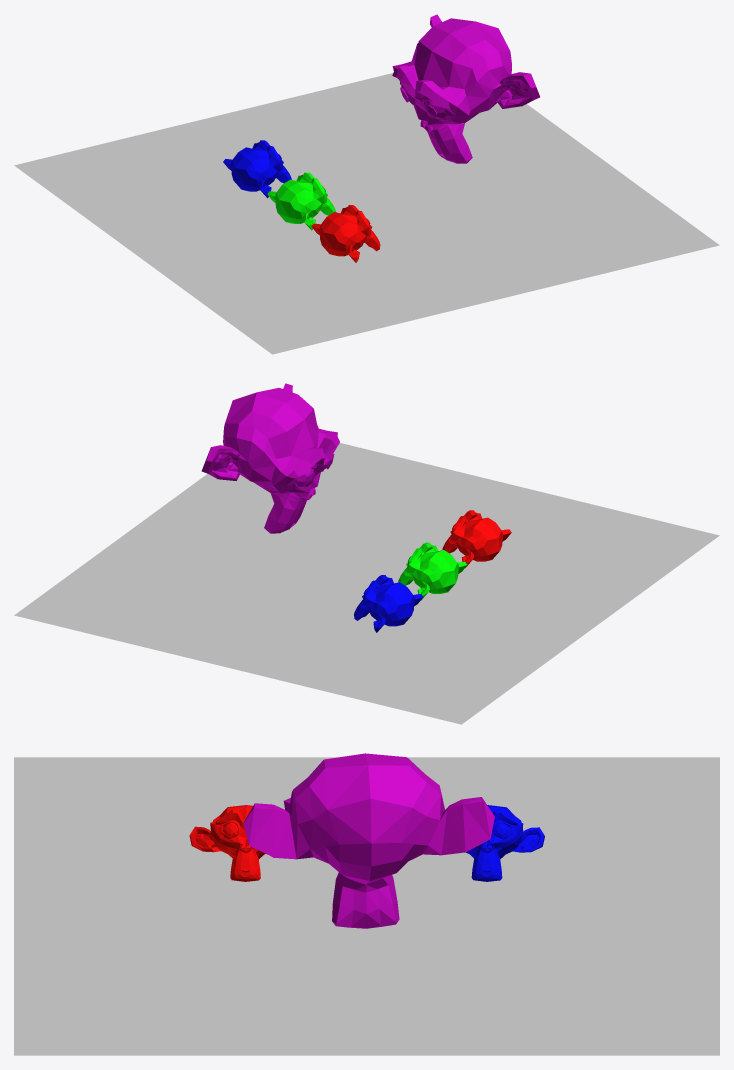
The model's file is MaterialExample.obj.
The picture shows the model from 3 angles, top to bottom: view 1: azimuth 30°, elevation 25°; view 2: azimuth 150°, elevation 25°; view 3: azimuth 270°, elevation 25°; orthographic projection. The views are drawn at different scales.
Parts seen in each view (by area): view 1: Plane, Suzanne.003, Suzanne.001, Suzanne, Suzanne.002; view 2: Plane, Suzanne.003, Suzanne.002, Suzanne.001, Suzanne; view 3: Plane, Suzanne.003, Suzanne.001, Suzanne.002.
Boxes of the visible parts, x1,y1,x2,y2 form: Plane: (14, 73, 719, 354); Suzanne.003: (392, 14, 539, 163); Suzanne.001: (311, 205, 380, 262); Suzanne: (267, 172, 335, 230); Suzanne.002: (223, 140, 291, 198); Plane: (14, 443, 719, 724); Suzanne.003: (201, 383, 339, 533); Suzanne.002: (354, 575, 423, 632); Suzanne.001: (442, 510, 511, 567); Suzanne: (398, 542, 467, 600); Plane: (14, 757, 719, 1055); Suzanne.003: (243, 753, 494, 928); Suzanne.001: (189, 805, 265, 881); Suzanne.002: (466, 805, 544, 881).
Size of the model in its own units: 16.9 by 5.67 by 16.9.
